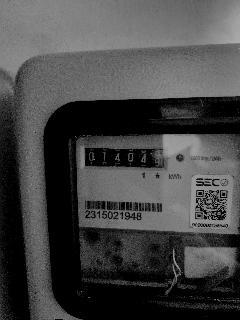1: (129, 153, 134, 162), (89, 152, 93, 160)
2: (103, 152, 108, 161)
5: (141, 155, 146, 164), (115, 153, 120, 162)
:: (155, 158, 160, 166)
